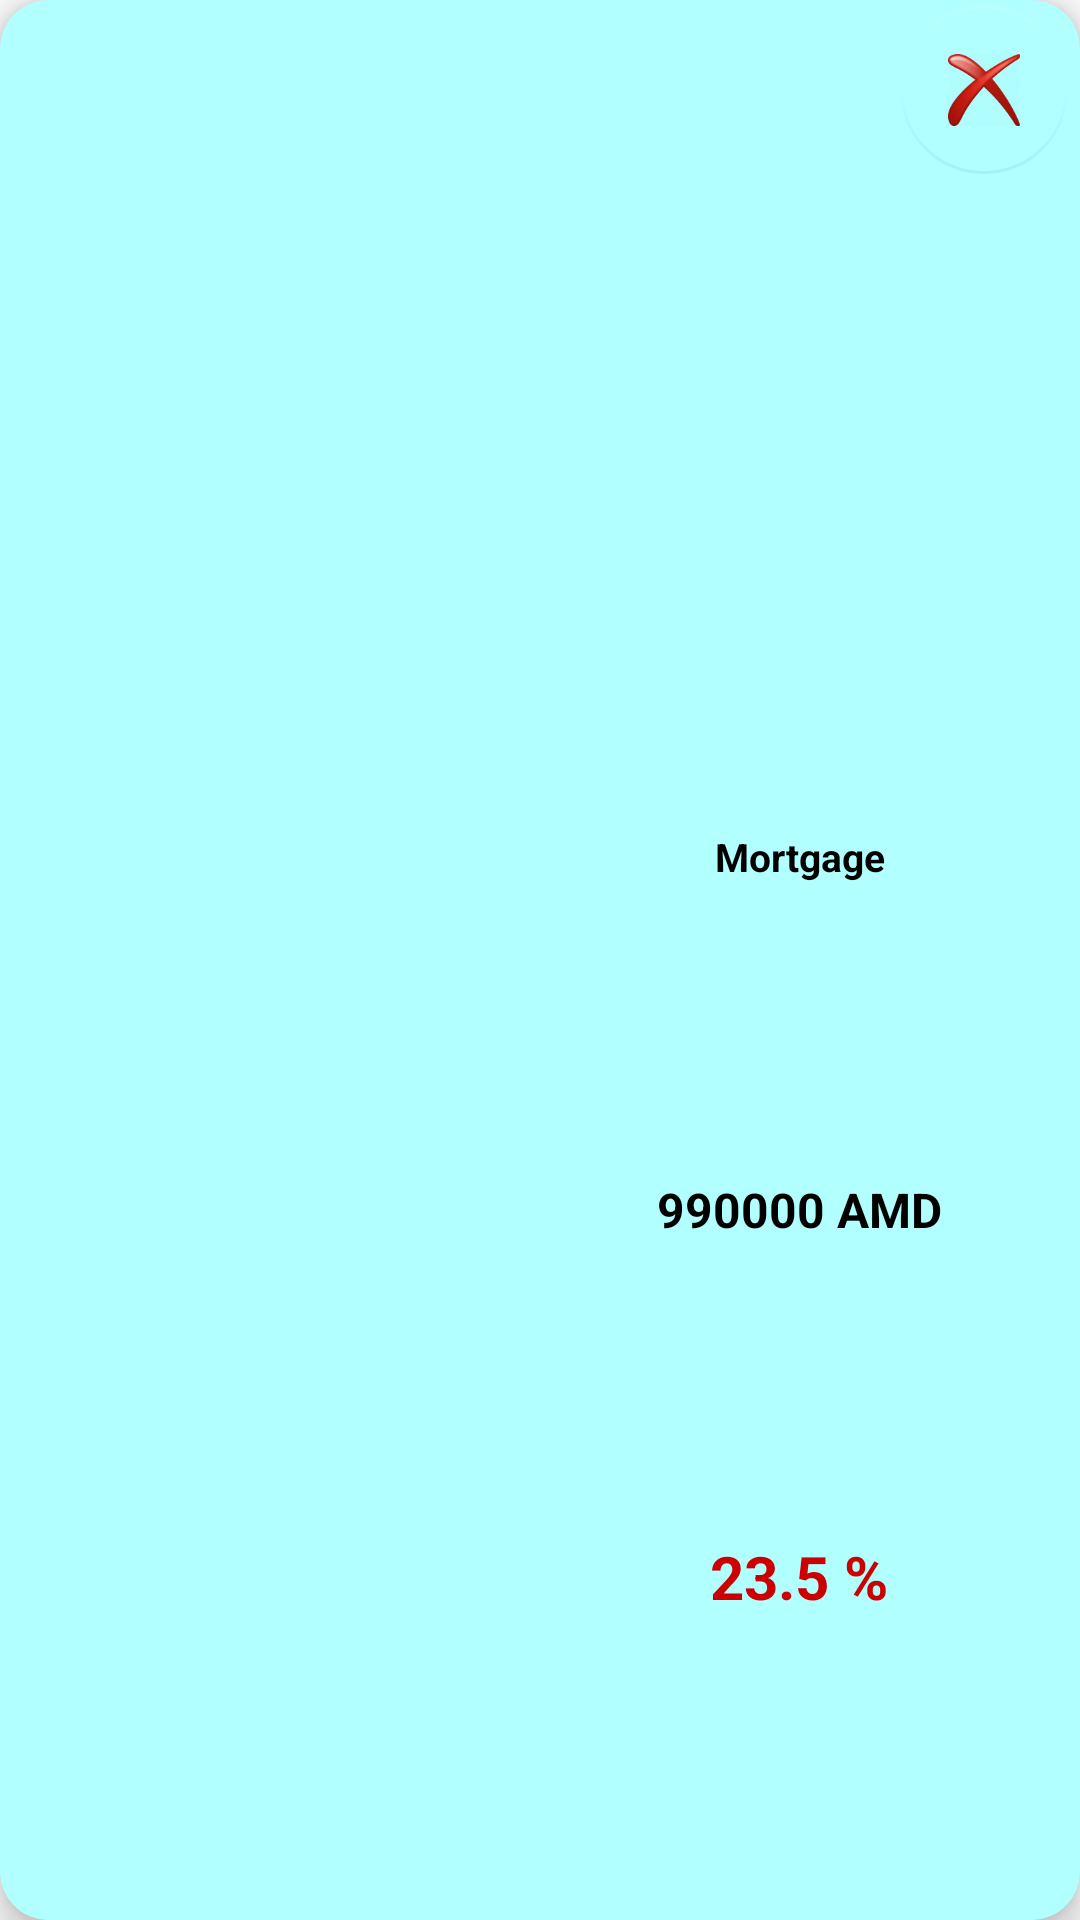

Icon bounding boxes for this 1080w x 1920h phone screenshot, format (x1=x1, y1=y1, x2=x2, y2=y2):
delete filter: (x1=948, y1=54, x2=1020, y2=126)
